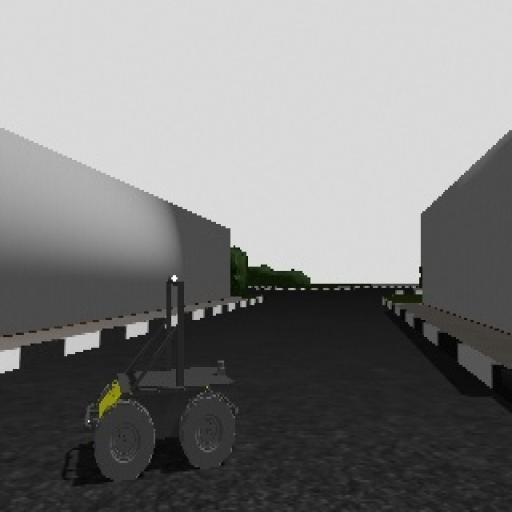huskya200: (66, 268, 275, 498)
